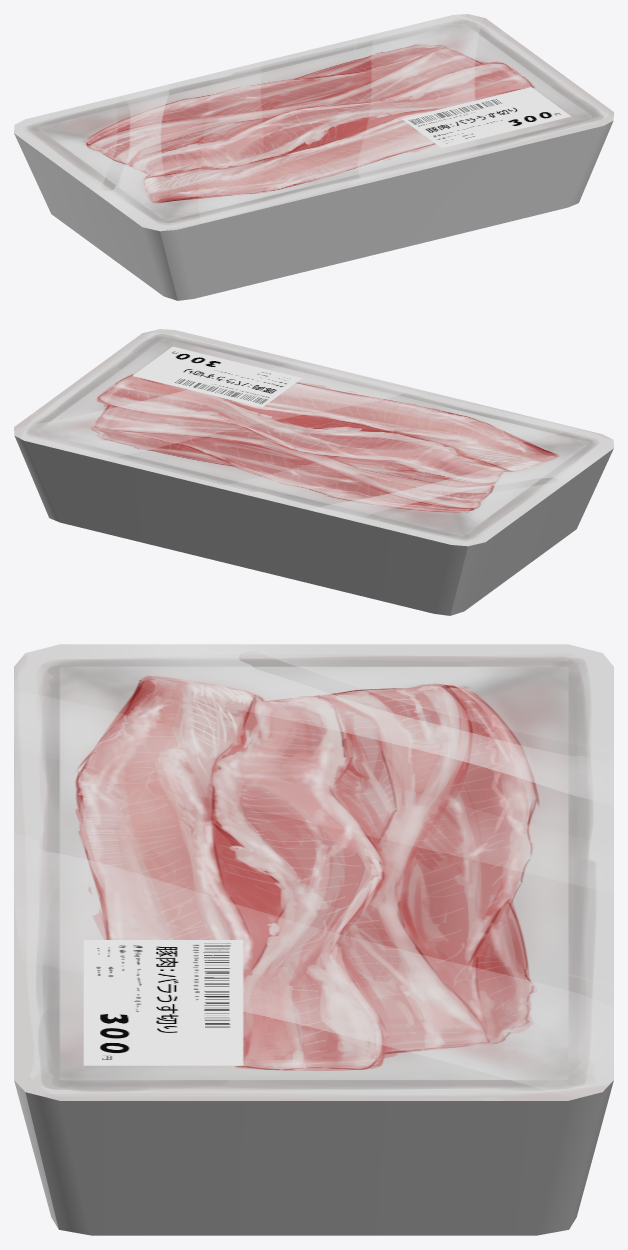
File: pork.fbx
The picture shows the model from 3 angles, top to bottom: view 1: azimuth 30°, elevation 25°; view 2: azimuth 150°, elevation 25°; view 3: azimuth 270°, elevation 25°; orthographic projection. The views are drawn at different scales.
Parts seen in each view (by area): view 1: pork; view 2: pork; view 3: pork.
Boxes of the visible parts, <box> form: pork: <box>14,14,613,300</box>; pork: <box>14,329,613,615</box>; pork: <box>14,644,613,1235</box>.
Bounding box in the file's own units: 90 × 15 × 50.
Materials: 1 (1 with a texture image).
